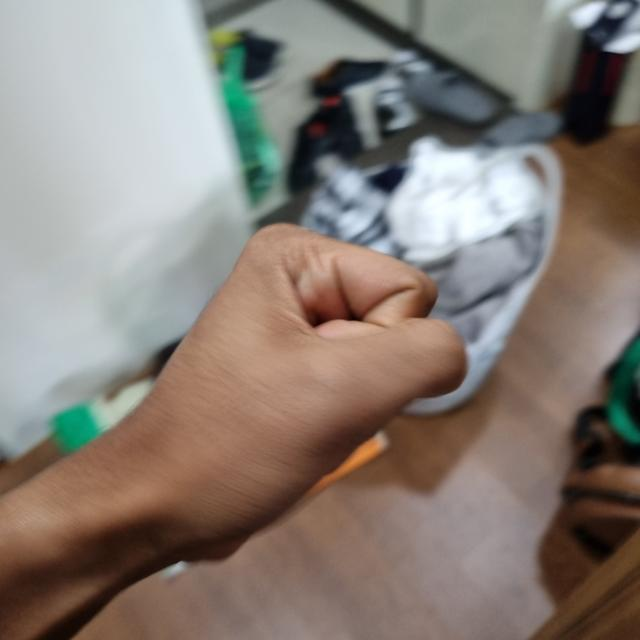Rock: (102, 124, 639, 549)
